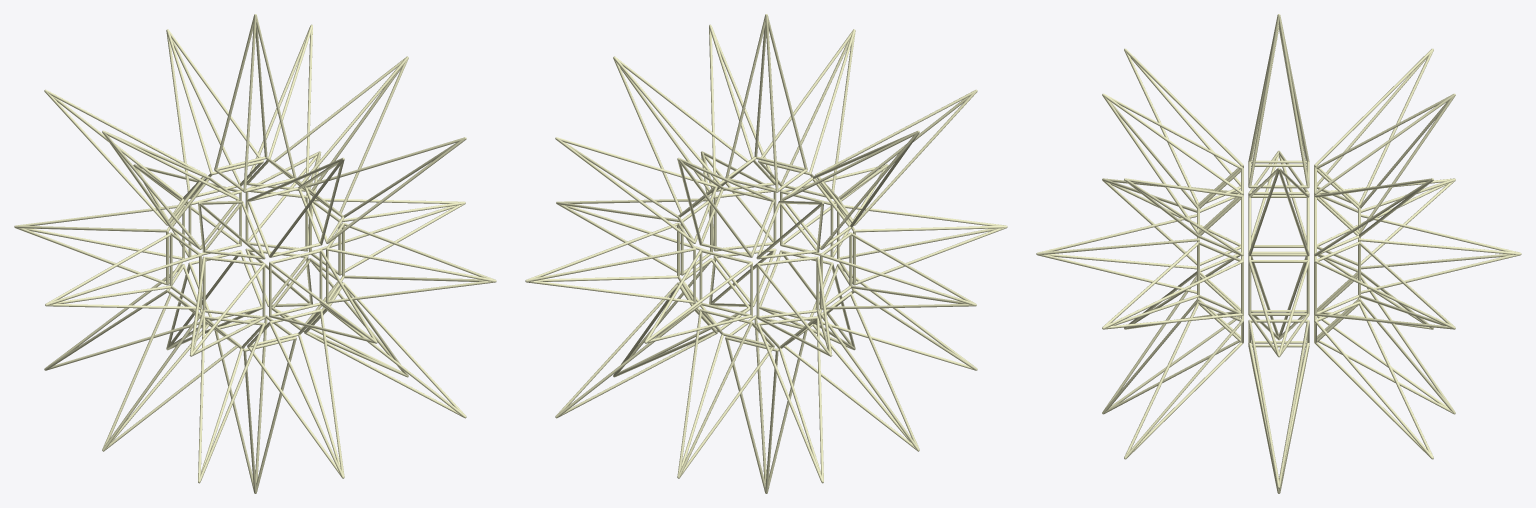
File: herrnhuterstern.glb
3 renders of one model, left to right at view 1: azimuth 30°, elevation 25°; view 2: azimuth 150°, elevation 25°; view 3: azimuth 270°, elevation 25°, orthographic.
Visible parts, largest first — view 1: Würfel.1; view 2: Würfel.1; view 3: Würfel.1.
Part boxes in pixels (<box>): Würfel.1: <box>14,14,496,493</box>; Würfel.1: <box>525,14,1007,493</box>; Würfel.1: <box>1036,14,1521,493</box>.
Size of what is drawn, in the model's own units: 6.64 by 7.24 by 6.64.
